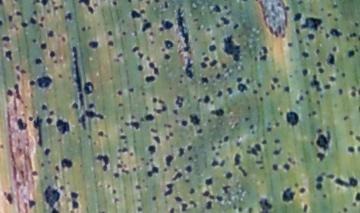tarspot: (72, 46, 82, 92), (177, 8, 189, 45), (224, 35, 239, 62), (316, 130, 331, 153), (301, 17, 322, 32), (44, 186, 59, 207), (335, 177, 358, 188), (35, 116, 43, 147), (95, 155, 109, 171), (56, 119, 70, 134), (86, 108, 105, 119), (37, 75, 52, 88), (185, 58, 194, 79), (286, 111, 299, 125), (258, 199, 271, 213), (282, 189, 295, 202), (311, 75, 321, 91), (61, 157, 73, 169), (16, 118, 27, 131), (189, 113, 200, 126), (329, 27, 343, 37), (79, 114, 87, 130), (14, 82, 21, 100), (84, 82, 94, 94), (153, 105, 167, 113), (162, 19, 173, 29), (147, 168, 158, 178), (164, 184, 173, 196), (211, 109, 224, 117), (164, 39, 174, 49), (142, 22, 152, 32), (238, 166, 247, 177), (171, 172, 182, 181), (327, 54, 335, 66), (234, 153, 241, 166), (4, 50, 13, 60), (130, 121, 140, 130), (316, 152, 325, 162), (176, 96, 184, 107), (166, 154, 173, 166), (212, 4, 221, 13), (273, 147, 282, 156), (144, 113, 154, 121), (131, 10, 141, 18), (148, 145, 156, 155), (220, 17, 230, 25), (238, 84, 248, 92), (224, 171, 232, 181), (2, 35, 11, 43), (5, 88, 13, 97), (89, 41, 98, 49), (204, 177, 213, 185), (69, 190, 78, 198), (7, 192, 13, 203), (79, 93, 84, 106), (46, 30, 54, 38), (153, 136, 161, 144), (211, 159, 219, 167), (201, 76, 209, 84), (328, 74, 336, 82), (315, 182, 323, 190), (190, 199, 198, 207), (58, 184, 66, 192), (65, 12, 72, 21), (145, 75, 154, 82), (216, 89, 223, 98), (294, 13, 301, 22), (315, 175, 324, 182), (251, 148, 258, 157), (28, 199, 35, 208), (179, 147, 185, 157), (277, 24, 283, 34), (186, 163, 192, 173), (20, 21, 28, 28), (39, 43, 47, 50), (35, 57, 42, 65), (137, 64, 144, 72), (200, 61, 208, 68), (209, 44, 216, 52), (209, 60, 217, 67), (226, 87, 233, 95), (317, 67, 325, 74), (323, 83, 331, 90), (347, 146, 355, 153), (224, 185, 231, 193), (215, 195, 223, 202), (72, 201, 79, 209), (79, 1, 90, 6), (166, 117, 171, 128), (88, 6, 94, 15), (272, 162, 278, 171), (206, 200, 212, 209), (174, 197, 183, 203), (30, 17, 37, 24), (49, 50, 56, 57), (72, 103, 79, 110), (45, 117, 52, 124), (107, 40, 114, 47), (151, 96, 158, 103), (184, 45, 191, 52), (261, 47, 268, 54), (348, 50, 355, 57), (272, 76, 279, 83), (328, 173, 335, 180), (283, 164, 290, 171), (116, 162, 123, 169), (154, 67, 160, 75), (163, 54, 171, 60), (157, 26, 165, 32), (181, 119, 187, 127), (223, 135, 229, 143), (204, 95, 210, 103), (307, 34, 315, 40), (321, 191, 327, 199), (255, 143, 261, 151), (189, 187, 195, 195), (121, 169, 129, 175), (112, 172, 120, 178), (118, 134, 127, 139), (164, 1, 169, 10), (220, 158, 225, 167), (51, 208, 60, 213), (29, 79, 35, 86), (41, 104, 48, 110), (44, 148, 50, 155), (117, 51, 123, 58), (117, 89, 123, 96), (97, 131, 104, 137), (132, 46, 139, 52), (187, 144, 193, 151), (192, 17, 199, 23), (215, 22, 221, 29), (236, 76, 242, 83), (260, 55, 267, 61), (332, 3, 338, 10), (324, 32, 330, 39), (331, 45, 337, 52), (302, 51, 309, 57), (302, 69, 308, 76), (252, 88, 258, 95), (342, 115, 349, 121), (351, 201, 357, 208), (287, 156, 293, 163), (203, 190, 210, 196), (137, 206, 143, 213), (53, 174, 59, 181), (56, 136, 63, 142), (8, 15, 13, 23), (15, 11, 23, 16), (150, 128, 158, 133), (216, 73, 221, 81), (295, 27, 300, 35), (349, 32, 357, 37), (316, 48, 321, 56), (182, 204, 187, 212), (30, 171, 38, 176), (32, 9, 38, 15), (93, 1, 99, 7), (55, 165, 61, 171), (107, 30, 113, 36), (128, 87, 134, 93), (149, 62, 155, 68), (145, 55, 151, 61), (124, 121, 130, 127), (116, 154, 122, 160), (196, 128, 202, 134), (287, 41, 293, 47), (355, 44, 359, 53), (270, 84, 276, 90), (342, 207, 348, 213), (303, 204, 307, 213), (300, 187, 306, 193), (293, 182, 299, 188), (248, 207, 254, 213), (235, 141, 241, 147), (169, 207, 175, 213), (120, 18, 126, 24), (41, 1, 48, 6), (16, 74, 21, 81), (61, 35, 66, 42), (113, 58, 120, 63), (178, 73, 185, 78), (122, 147, 129, 152), (217, 143, 222, 150), (346, 35, 351, 42), (341, 71, 346, 78), (338, 88, 343, 95), (312, 109, 317, 116), (274, 139, 281, 144), (135, 185, 142, 190), (1, 19, 5, 27), (300, 94, 304, 102), (356, 193, 360, 201), (38, 23, 44, 28), (40, 16, 45, 22), (53, 5, 58, 11), (15, 65, 20, 71), (20, 69, 26, 74), (81, 26, 86, 32), (28, 116, 34, 121), (112, 1, 118, 6), (138, 52, 143, 58), (119, 127, 124, 133), (139, 117, 144, 123), (159, 99, 165, 104), (178, 79, 184, 84), (172, 110, 178, 115), (168, 131, 173, 137), (207, 118, 212, 124), (197, 97, 202, 103), (210, 36, 216, 41), (222, 63, 227, 69), (233, 24, 239, 29), (305, 41, 311, 46), (333, 17, 339, 22), (316, 62, 322, 67), (284, 87, 290, 92), (277, 83, 282, 89), (357, 87, 360, 97), (287, 73, 293, 78), (265, 91, 270, 97), (244, 116, 250, 121), (316, 128, 322, 133), (250, 130, 256, 135), (319, 94, 324, 100), (355, 135, 360, 141), (246, 150, 252, 155), (238, 207, 243, 213), (173, 167, 178, 173), (163, 167, 168, 173), (132, 166, 137, 172), (114, 197, 119, 203), (167, 86, 173, 91), (203, 57, 210, 61), (254, 55, 258, 62), (256, 160, 263, 164), (46, 9, 51, 14), (59, 4, 64, 9), (53, 59, 58, 64), (58, 73, 63, 78), (87, 134, 92, 139), (119, 115, 124, 120), (141, 91, 146, 96), (161, 47, 166, 52), (150, 40, 155, 45), (149, 31, 154, 36), (146, 1, 151, 6), (141, 9, 146, 14), (165, 135, 170, 140), (118, 147, 123, 152), (218, 139, 223, 144), (277, 2, 282, 7), (316, 100, 321, 105), (351, 92, 356, 97), (349, 131, 354, 136), (267, 127, 272, 132), (262, 140, 267, 145), (210, 195, 215, 200), (289, 57, 294, 62), (33, 1, 39, 5), (88, 104, 94, 108), (48, 111, 54, 115), (145, 105, 149, 111), (210, 99, 214, 105), (197, 25, 201, 31), (246, 78, 250, 84), (258, 49, 262, 55), (355, 21, 359, 27), (305, 89, 309, 95), (351, 86, 357, 90), (260, 96, 264, 102), (308, 112, 312, 118), (309, 142, 315, 146), (357, 145, 360, 153), (152, 195, 156, 201), (3, 191, 7, 197), (32, 39, 37, 43), (52, 1, 57, 5), (87, 26, 92, 30), (40, 162, 44, 167), (122, 31, 126, 36), (119, 103, 124, 107), (130, 115, 135, 119), (143, 18, 148, 22), (210, 146, 215, 150), (202, 52, 207, 56), (207, 26, 211, 31), (224, 5, 228, 10), (227, 10, 231, 15), (285, 6, 290, 10), (320, 7, 324, 12), (328, 12, 332, 17), (295, 100, 300, 104), (258, 83, 262, 88), (246, 106, 251, 110), (279, 111, 283, 116), (276, 122, 280, 127), (250, 124, 254, 129), (260, 166, 265, 170), (185, 178, 189, 183), (106, 184, 111, 188), (1, 1, 4, 7), (1, 143, 4, 149), (154, 1, 160, 4), (297, 1, 303, 4), (358, 104, 360, 113), (175, 119, 179, 123), (130, 152, 134, 156), (188, 157, 192, 161), (194, 37, 198, 41), (149, 158, 153, 162), (145, 162, 149, 166), (113, 190, 117, 194), (108, 76, 112, 80), (215, 152, 220, 155), (298, 41, 303, 44), (357, 36, 360, 41), (128, 1, 132, 4), (141, 158, 145, 161)
